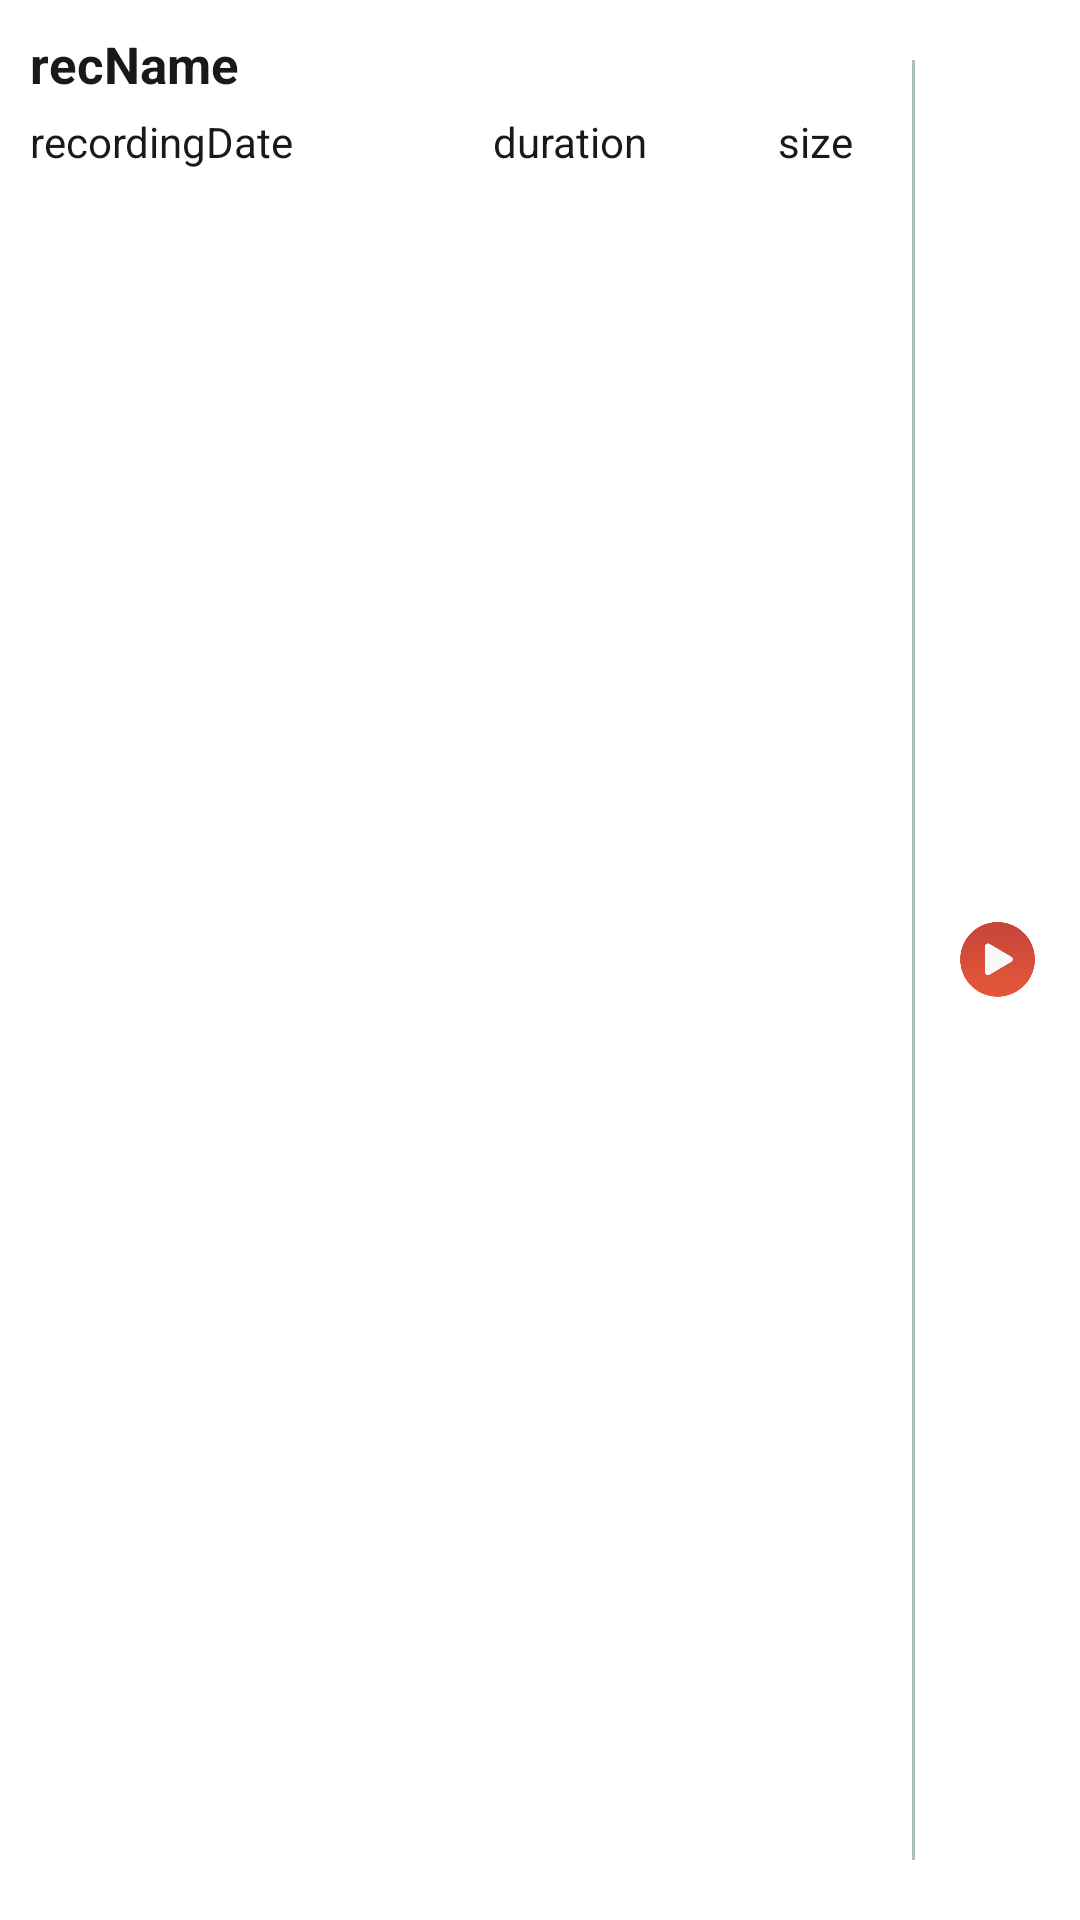

Named icons in this screenshot (1080w x 1920h) and their centers, (x,y):
play: (997,959)
